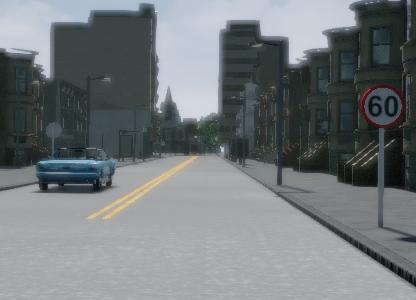Speed_60: (360, 83, 407, 131)
